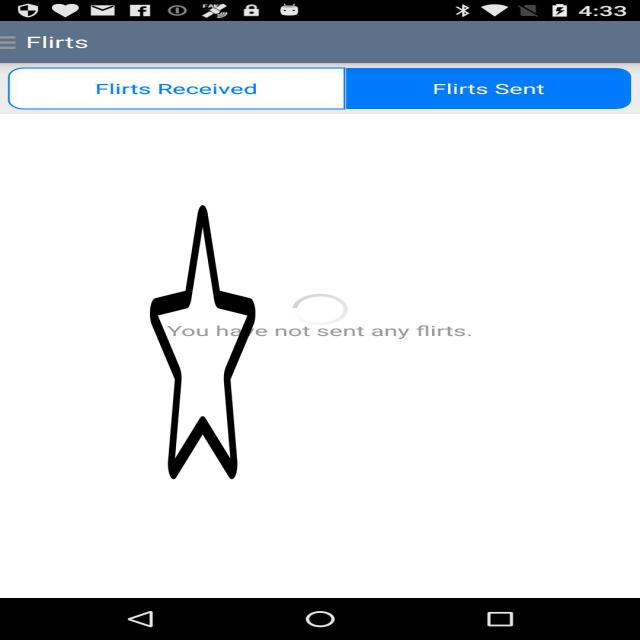forced continuity: (150, 199, 255, 485)
